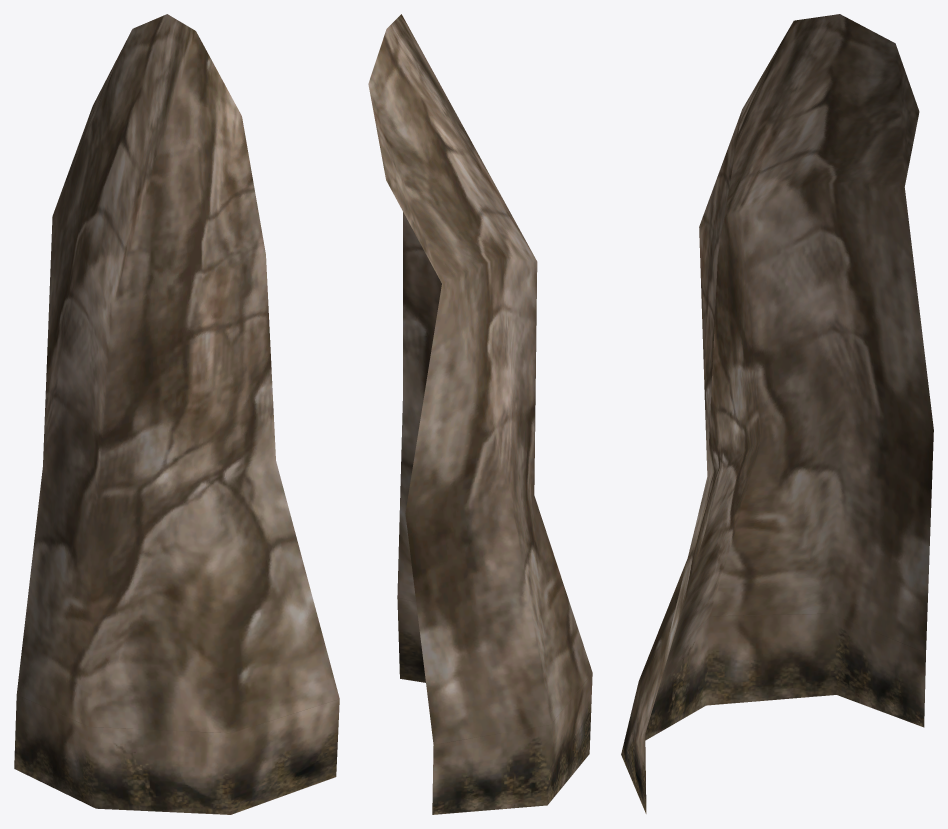
File: OVERHILL_A_01_ROCK_SLAB_05.fbx
3 views of the same model, side by side, from view 1: azimuth 30°, elevation 25°; view 2: azimuth 150°, elevation 25°; view 3: azimuth 270°, elevation 25° (orthographic). The views are drawn at different scales.
Parts seen in each view (by area): view 1: OVERHILL_A_01_ROCK_SLAB_05; view 2: OVERHILL_A_01_ROCK_SLAB_05; view 3: OVERHILL_A_01_ROCK_SLAB_05.
Part boxes in pixels (left/top/right/bottom): OVERHILL_A_01_ROCK_SLAB_05: left=14, top=14, right=339, bottom=814; OVERHILL_A_01_ROCK_SLAB_05: left=368, top=14, right=592, bottom=814; OVERHILL_A_01_ROCK_SLAB_05: left=621, top=14, right=933, bottom=813.
Bounding box in the file's own units: 20959 × 60772 × 22637.
2 materials, 2 textured.
